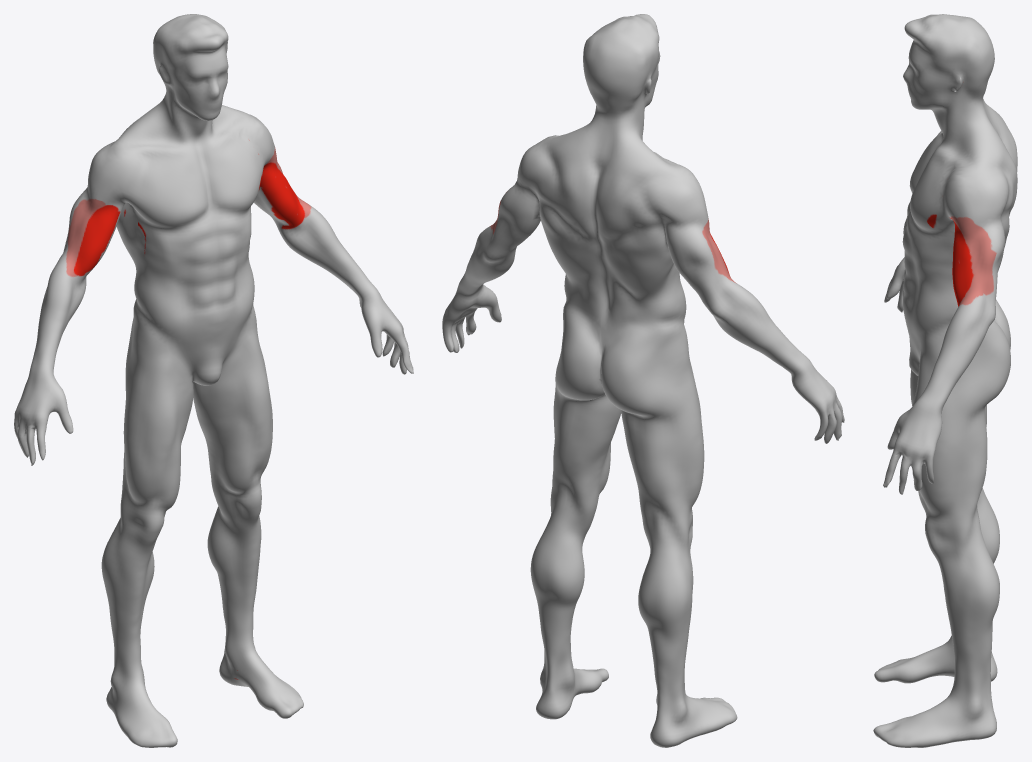
Rendered from curl.glb.
3 renders of one model, left to right at view 1: azimuth 30°, elevation 25°; view 2: azimuth 150°, elevation 25°; view 3: azimuth 270°, elevation 25°, orthographic.
Visible parts, largest first — view 1: Mesh1; view 2: Mesh1; view 3: Mesh1.
Part boxes in pixels (box(x1,y1,x2,y2)): Mesh1: box(14, 14, 413, 747); Mesh1: box(442, 14, 844, 747); Mesh1: box(873, 14, 1017, 747).
Size of the model in its own units: 1.17 by 2 by 0.3767.
1 material, 1 textured.
